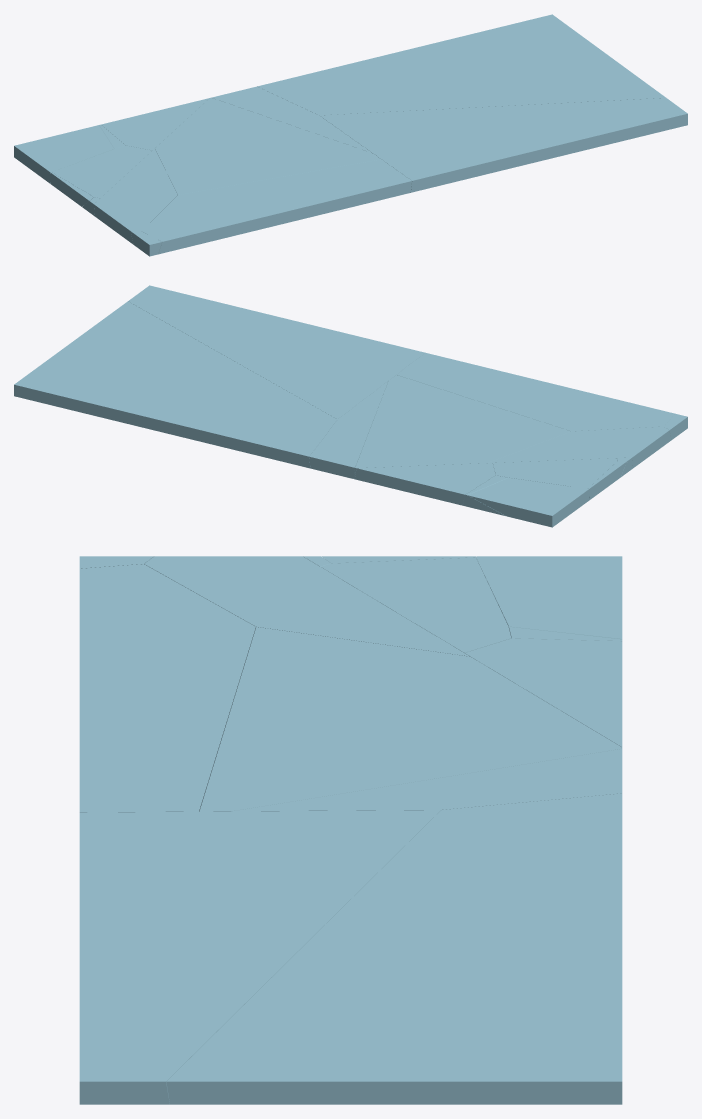
The model's file is wide_floor_fractured.fbx.
3 renders of one model, top to bottom at view 1: azimuth 30°, elevation 25°; view 2: azimuth 150°, elevation 25°; view 3: azimuth 270°, elevation 25°, orthographic. The views are drawn at different scales.
Visible parts, largest first — view 1: wide floor_cell.003, wide floor_cell.002, wide floor_cell_cell.005, wide floor_cell_cell, wide floor_cell_cell.002, wide floor_cell.001_cell.001, wide floor_cell_cell.004, wide floor_cell.001_cell.002, wide floor_cell.001_cell.003, wide floor_cell.001_cell.006, wide floor_cell_cell.003; view 2: wide floor_cell.003, wide floor_cell.002, wide floor_cell_cell, wide floor_cell_cell.005, wide floor_cell_cell.002, wide floor_cell.001_cell.001, wide floor_cell.001_cell.003, wide floor_cell_cell.004, wide floor_cell.001_cell.002, wide floor_cell.001_cell.006, wide floor_cell.001_cell, wide floor_cell_cell.003; view 3: wide floor_cell.003, wide floor_cell.002, wide floor_cell_cell, wide floor_cell_cell.005, wide floor_cell_cell.002, wide floor_cell_cell.004, wide floor_cell.001_cell.001, wide floor_cell.001_cell.002, wide floor_cell.001_cell.003, wide floor_cell.001_cell.
Part boxes in pixels (box(x1,y1,x2,y2)): wide floor_cell.003: box(257, 14, 665, 115); wide floor_cell.002: box(319, 98, 687, 192); wide floor_cell_cell.005: box(141, 159, 411, 254); wide floor_cell_cell: box(155, 97, 380, 194); wide floor_cell_cell.002: box(94, 148, 177, 244); wide floor_cell.001_cell.001: box(14, 125, 113, 183); wide floor_cell_cell.004: box(212, 86, 372, 153); wide floor_cell.001_cell.002: box(52, 145, 152, 198); wide floor_cell.001_cell.003: box(101, 98, 209, 150); wide floor_cell.001_cell.006: box(50, 172, 93, 206); wide floor_cell_cell.003: box(131, 231, 161, 256); wide floor_cell.003: box(14, 301, 337, 468); wide floor_cell.002: box(128, 285, 424, 419); wide floor_cell_cell: box(354, 375, 570, 479); wide floor_cell_cell.005: box(396, 352, 674, 431); wide floor_cell_cell.002: box(488, 426, 671, 468); wide floor_cell.001_cell.001: box(468, 477, 589, 527); wide floor_cell.001_cell.003: box(355, 463, 495, 505); wide floor_cell_cell.004: box(309, 381, 388, 478); wide floor_cell.001_cell.002: box(492, 458, 617, 488); wide floor_cell.001_cell.006: box(588, 461, 627, 500); wide floor_cell.001_cell: box(462, 475, 507, 515); wide floor_cell_cell.003: box(664, 413, 687, 439); wide floor_cell.003: box(166, 793, 622, 1104); wide floor_cell.002: box(79, 810, 440, 1104); wide floor_cell_cell: box(199, 627, 622, 811); wide floor_cell_cell.005: box(79, 564, 255, 812); wide floor_cell_cell.002: box(144, 556, 469, 656); wide floor_cell_cell.004: box(233, 749, 622, 811); wide floor_cell.001_cell.001: box(476, 556, 622, 638); wide floor_cell.001_cell.002: box(321, 557, 511, 652); wide floor_cell.001_cell.003: box(465, 638, 622, 746); wide floor_cell.001_cell: box(508, 626, 622, 641).
Size of the model in its own units: 891 by 18.28 by 389.
